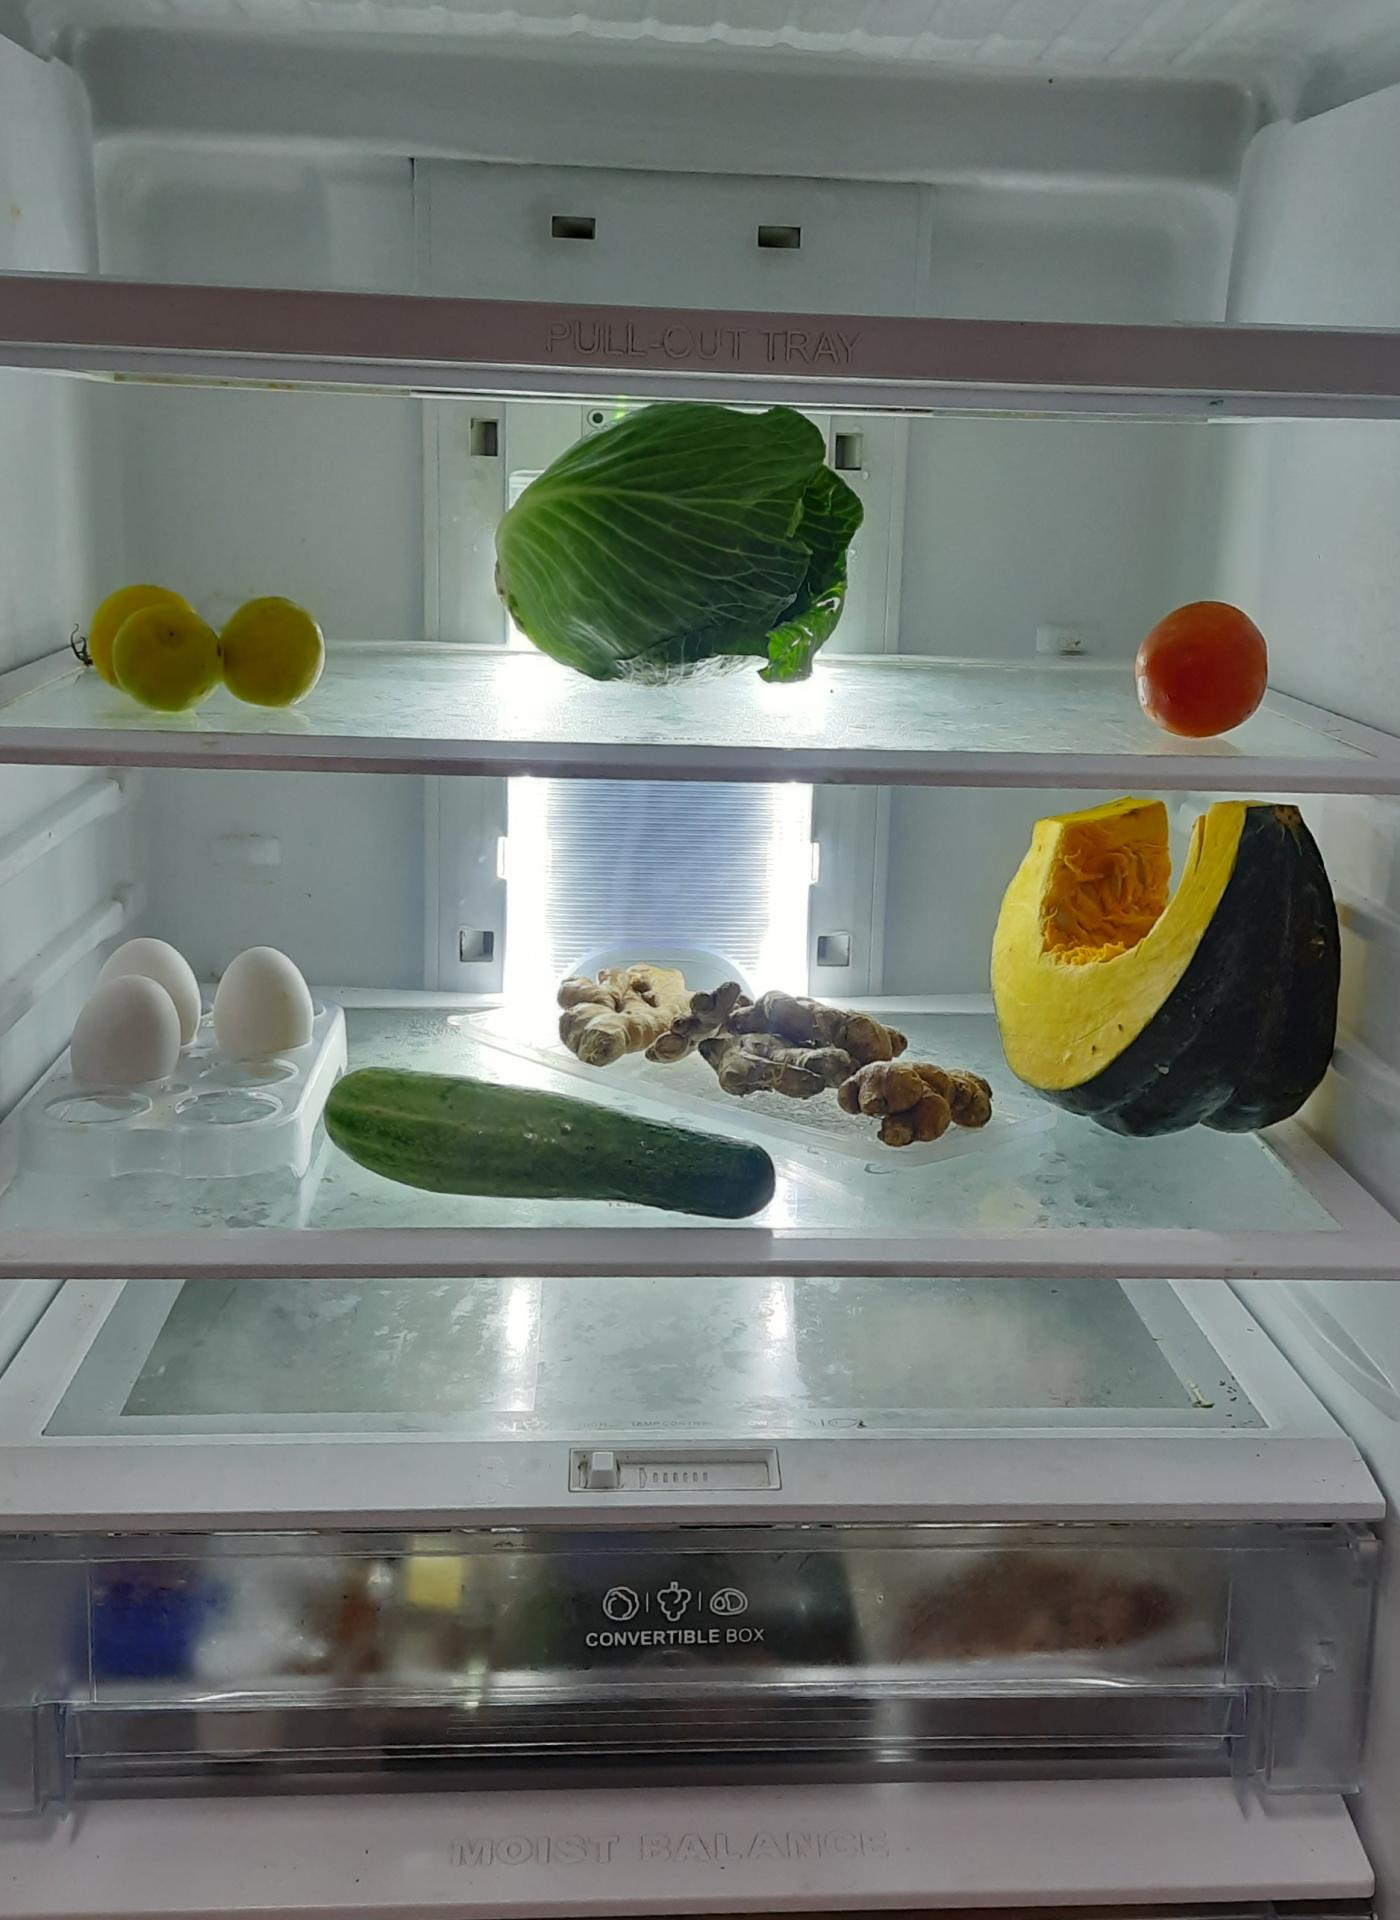cabbage: (498, 407, 866, 684)
cucumber: (313, 1054, 784, 1225)
egg: (75, 942, 319, 1100)
ginger: (550, 956, 997, 1152)
lemon: (81, 583, 325, 711)
pumpkin: (991, 796, 1349, 1131)
tomato: (1136, 598, 1273, 736)
